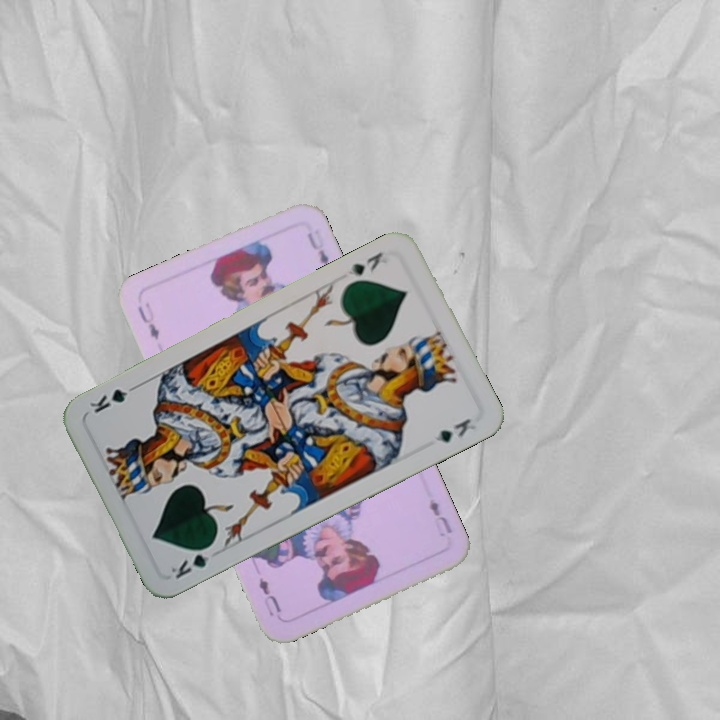EU: (133, 298, 162, 342), (425, 494, 455, 536)
GK: (167, 540, 217, 582), (344, 247, 386, 279)
